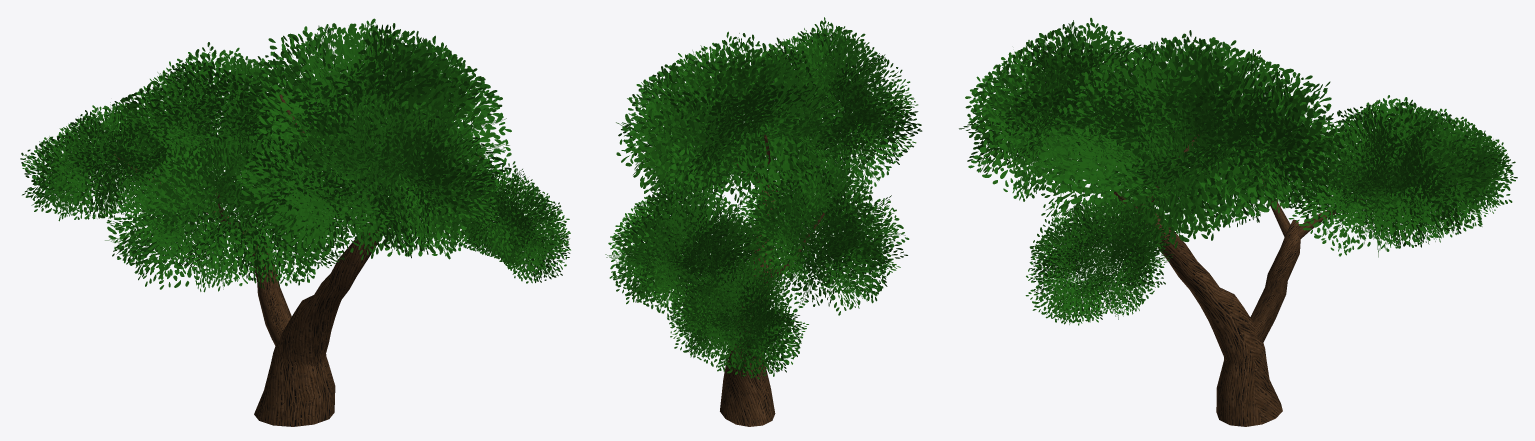
The model's file is Cay 3-LOD 1.fbx.
3 renders of one model, left to right at view 1: azimuth 30°, elevation 25°; view 2: azimuth 150°, elevation 25°; view 3: azimuth 270°, elevation 25°, orthographic. The views are drawn at different scales.
Parts seen in each view (by area): view 1: LOD 1; view 2: LOD 1; view 3: LOD 1.
Part boxes in pixels (bbox=[...]): LOD 1: bbox=[20, 18, 570, 426]; LOD 1: bbox=[605, 17, 922, 426]; LOD 1: bbox=[959, 18, 1517, 426].
Bounding box in the file's own units: 965 × 1050 × 1318.
